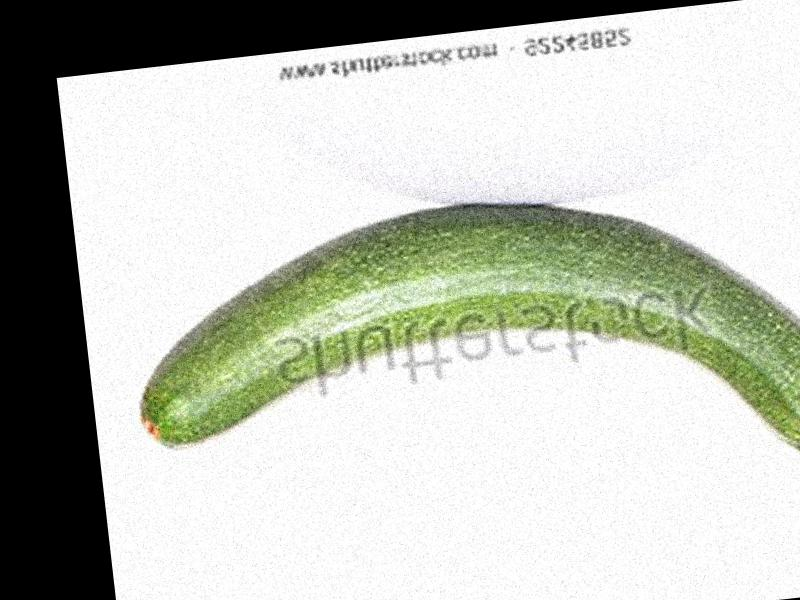Cucumber: (122, 164, 800, 534)
